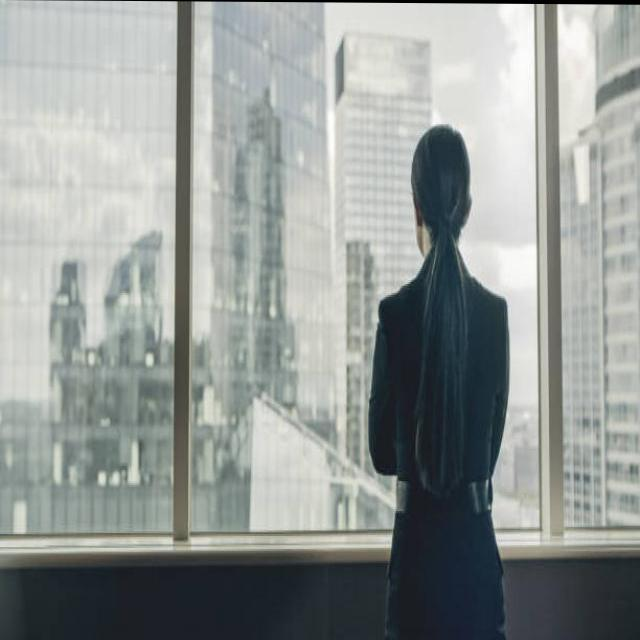no helmet: (396, 103, 482, 274)
